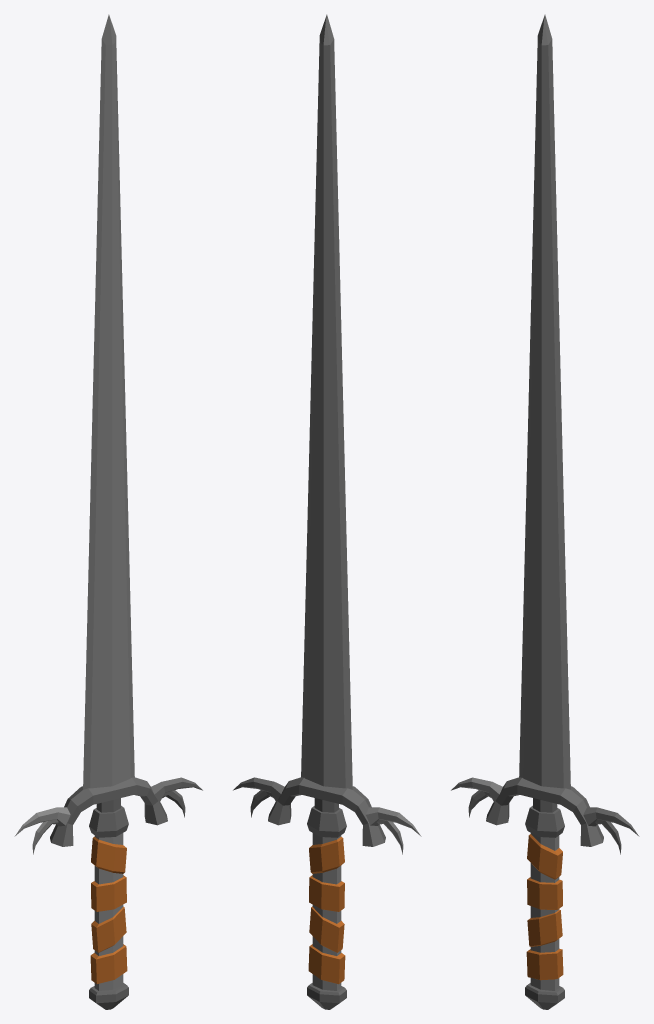
Rendered from sword_2.fbx.
3 views of the same model, side by side, from view 1: azimuth 30°, elevation 25°; view 2: azimuth 150°, elevation 25°; view 3: azimuth 330°, elevation 25° (orthographic).
Parts seen in each view (by area): view 1: Sword; view 2: Sword; view 3: Sword.
Boxes of the visible parts, <box> form: Sword: <box>14,14,202,1009</box>; Sword: <box>233,14,421,1009</box>; Sword: <box>451,14,639,1009</box>.
Bounding box in the file's own units: 48.12 × 241 × 6.89.
